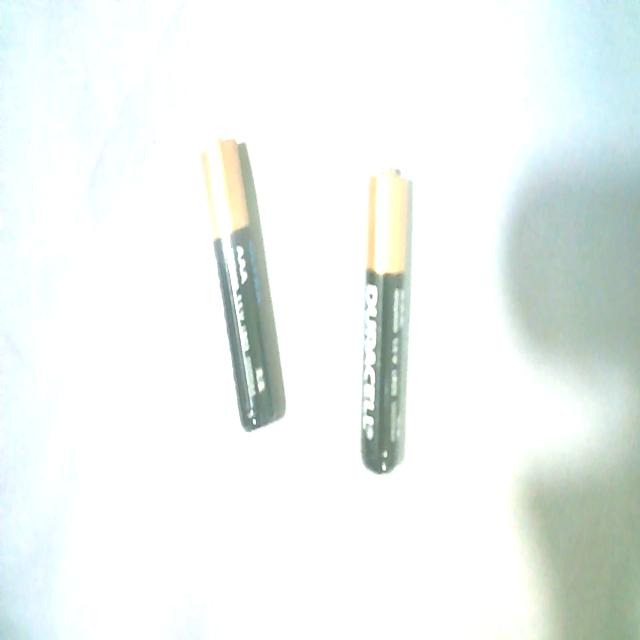AAA: (195, 129, 285, 445), (352, 150, 418, 480)
